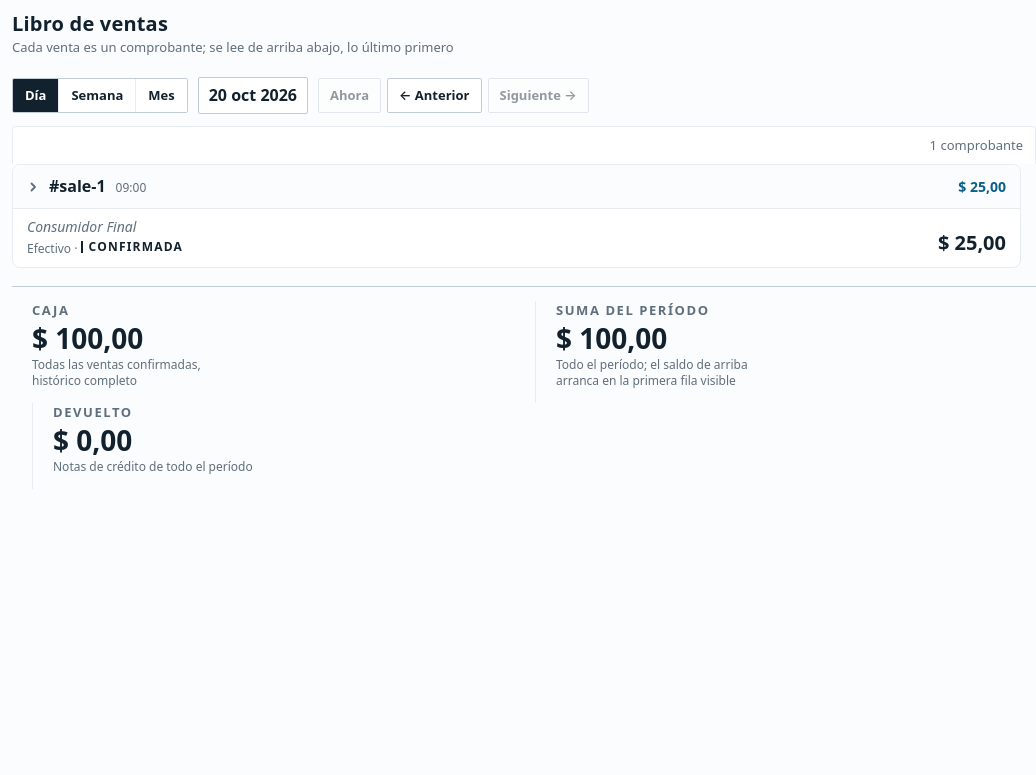
Scenario: a refund whose cash read fails › still reloads the rows, and says the balance is the thing that is behind
This screenshot has width=1036, height=775.
Click the button that starts with "#sale-1": click(516, 187) [12,164,1021,268]
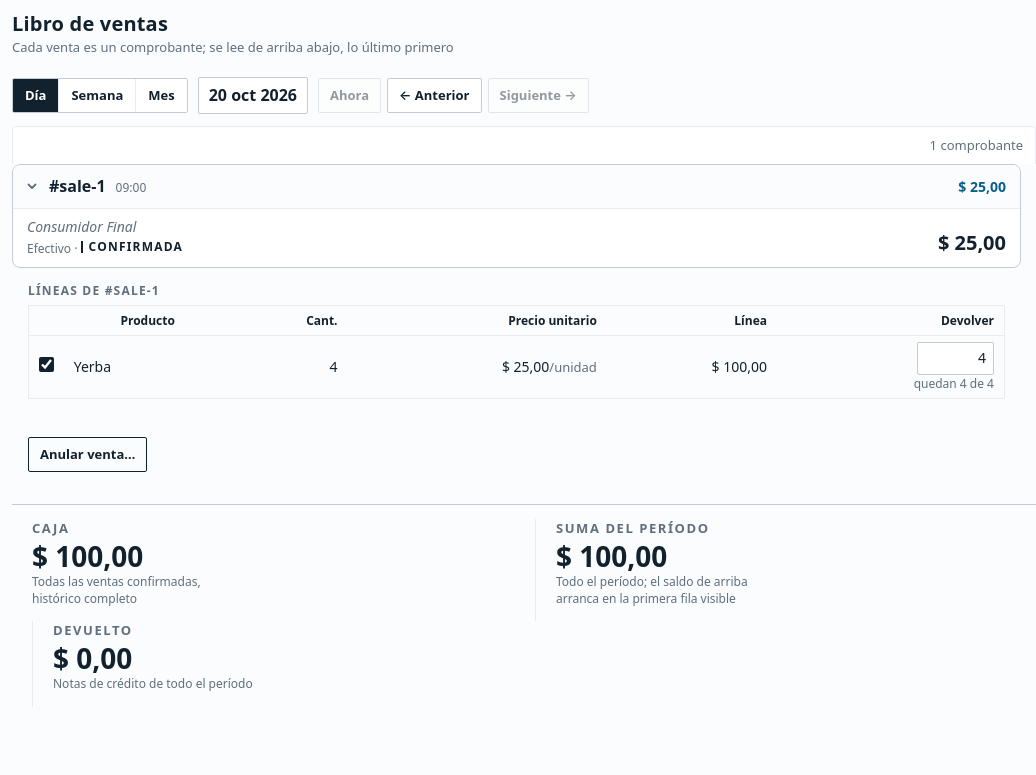
Now the button "Anular venta…" is shown
Click the button "Anular venta…": click(88, 454) [28,437,147,472]
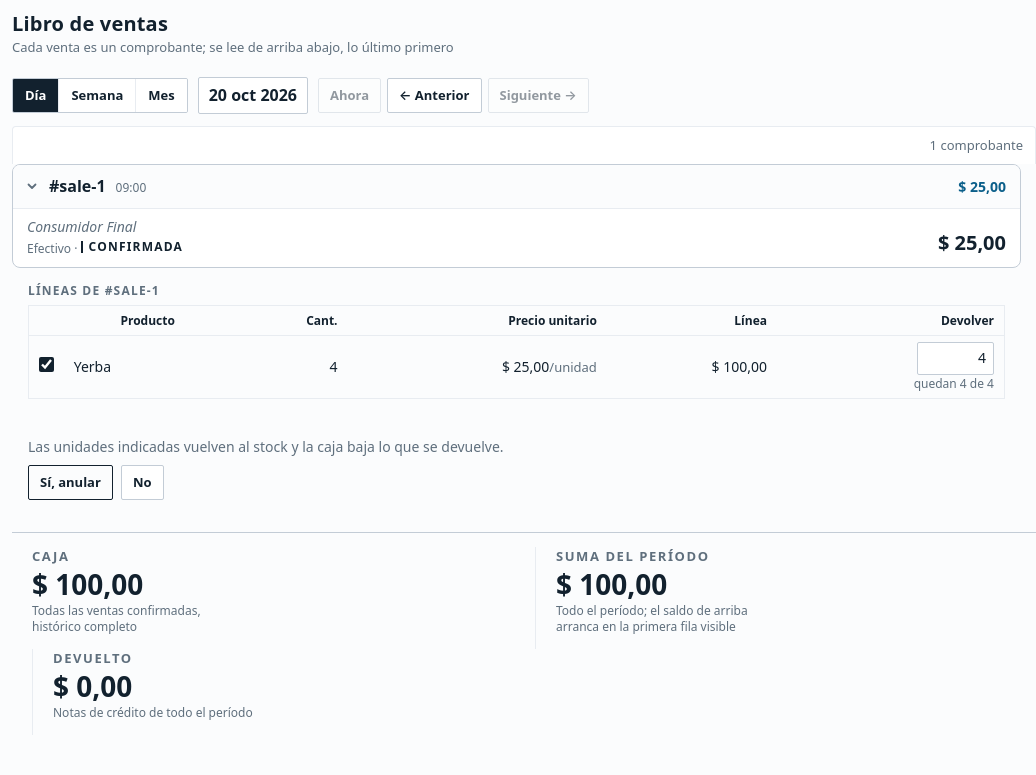
Now the button "Sí, anular" is shown
Click the button "Sí, anular": click(70, 483) [28,465,113,500]
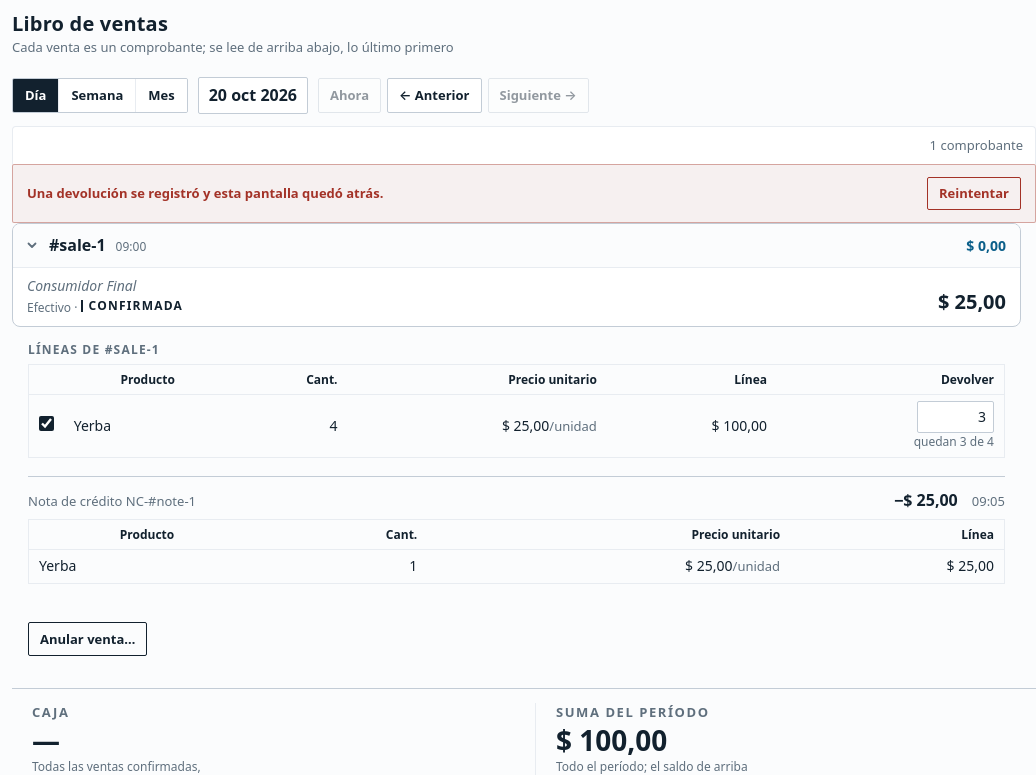
Now the element with class "note-block" is shown, box [28,476,1005,584]
Now the element with class "note-block" shows "Nota de crédito", box [28,492,196,510]
Now the text "esta pantalla quedó atrás" is shown, box [27,184,383,202]
